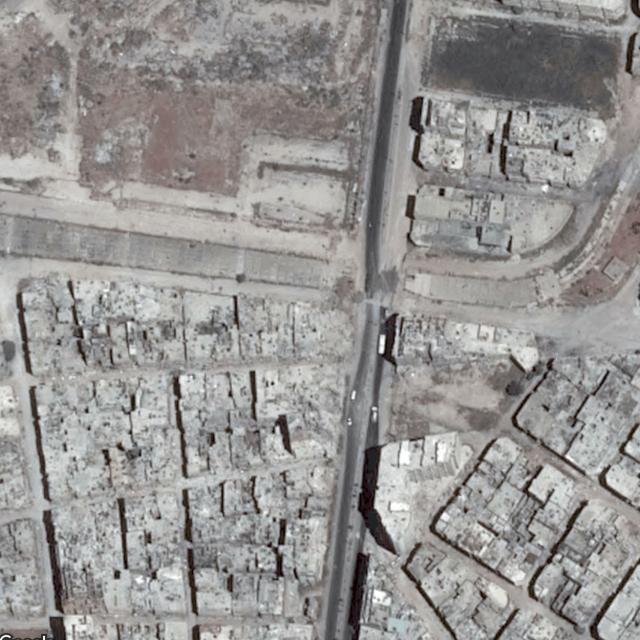damaged_building: (36, 380, 178, 499), (254, 366, 345, 457), (235, 297, 358, 364), (49, 501, 124, 577)
